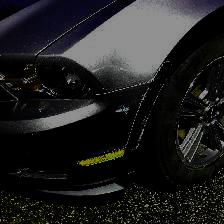bumper_scratch: (114, 59, 171, 161)
